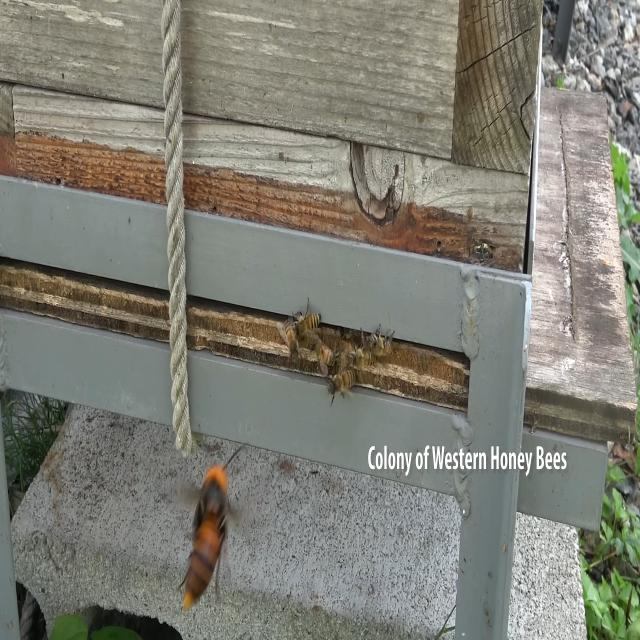Bees: (324, 362, 358, 404), (289, 298, 322, 339), (276, 315, 302, 367), (307, 334, 336, 378), (347, 340, 376, 374)
Hornets: (174, 436, 247, 615)
